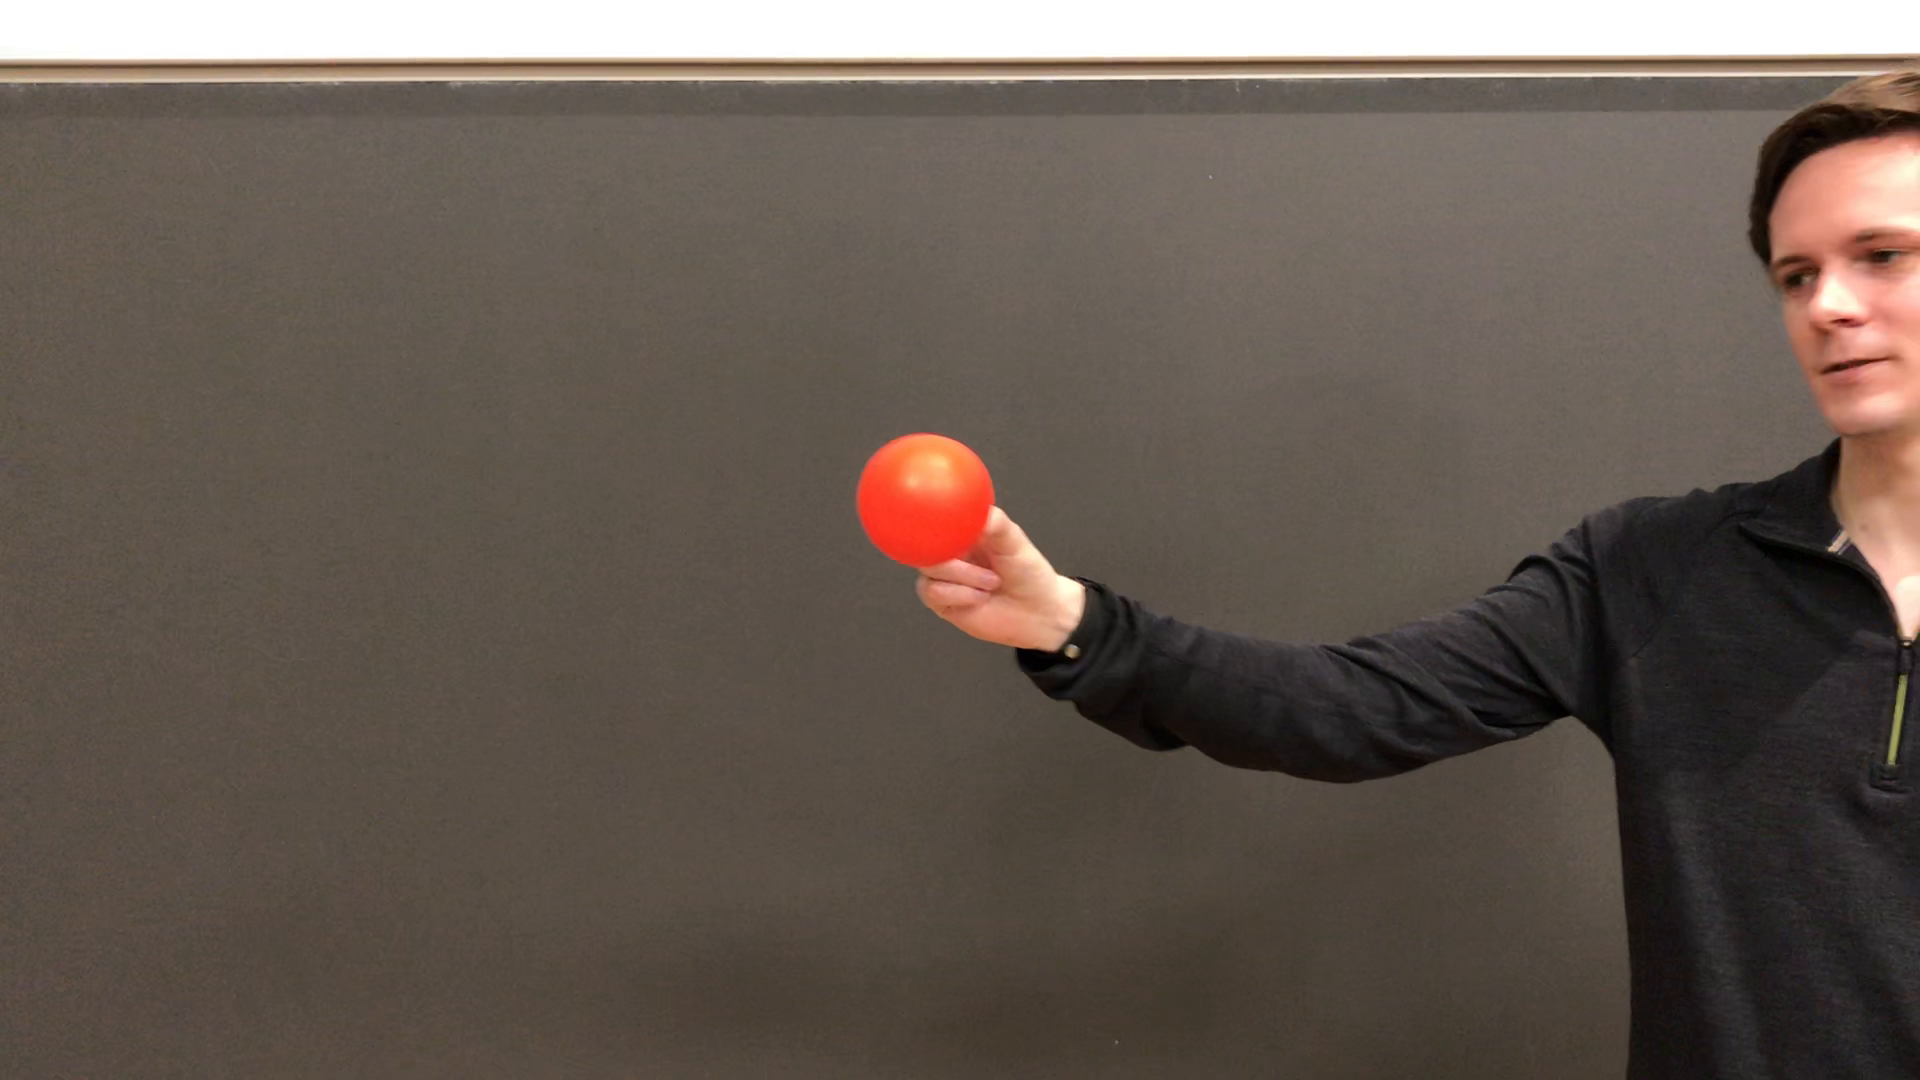Ball: (861, 434, 1000, 574)
